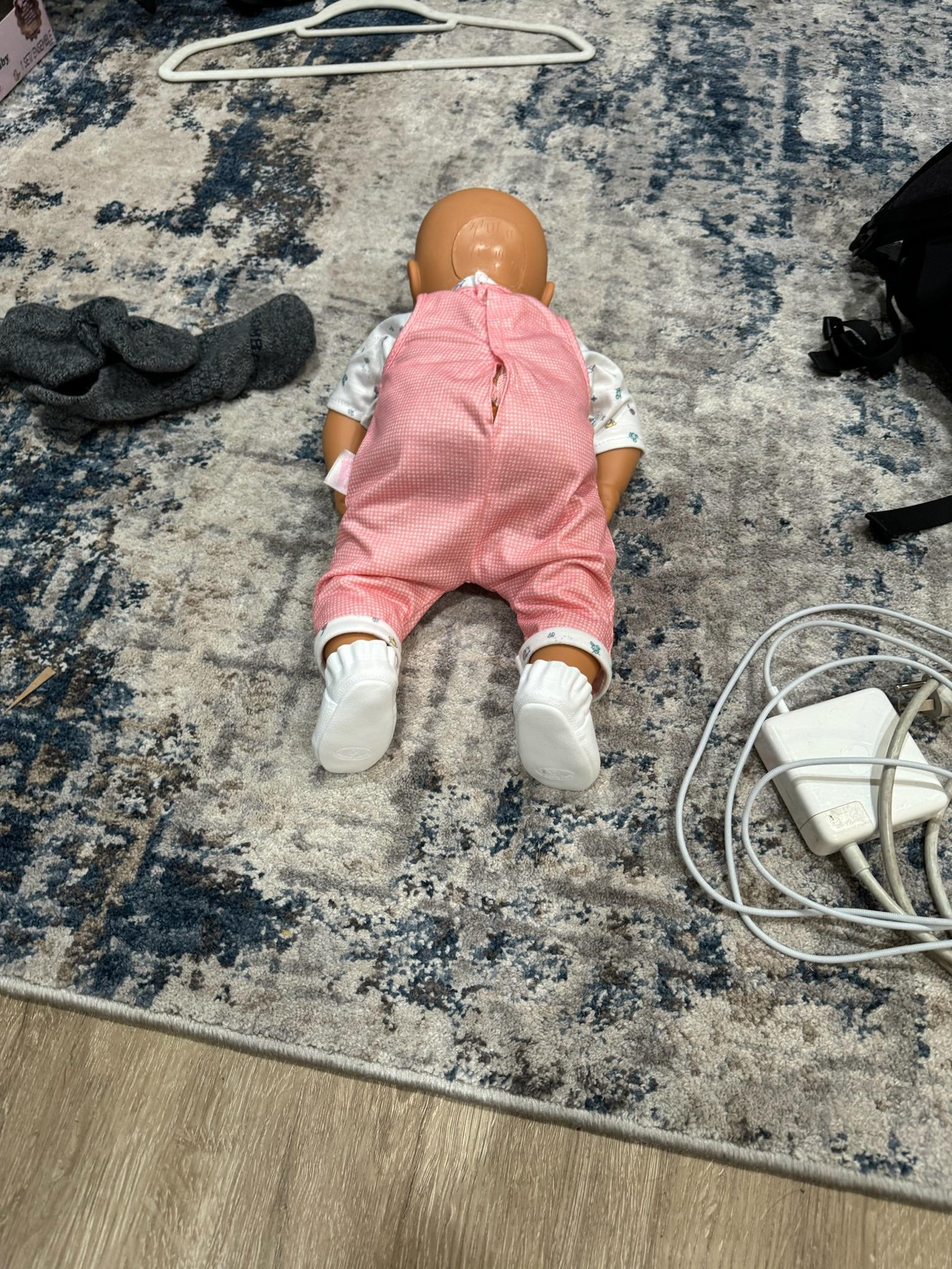baby: (318, 182, 634, 820)
